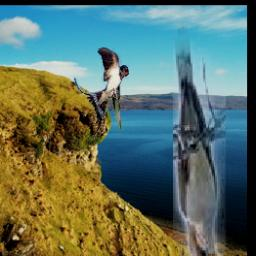Cuckoo: (173, 12, 226, 256)
Swallow: (74, 47, 129, 140)
